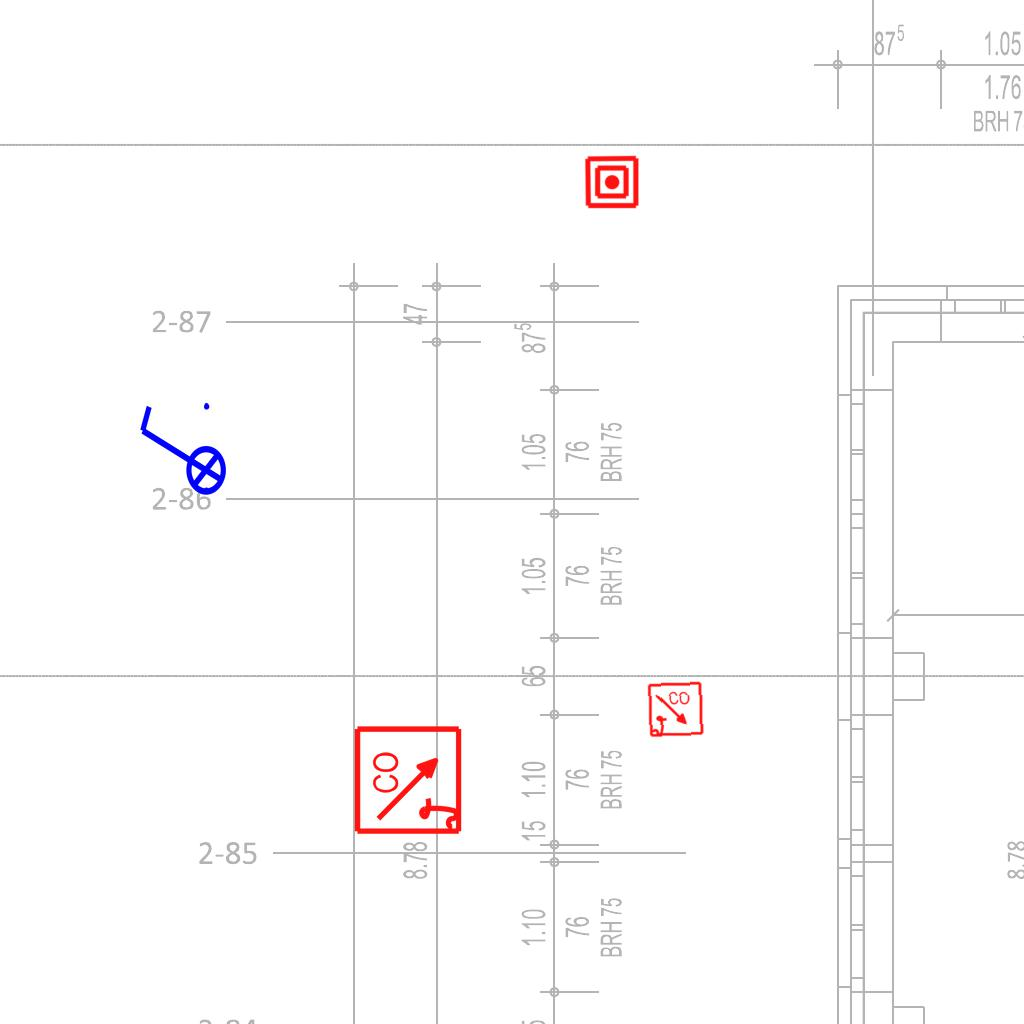Ausschalter_beleuchtet: (132, 397, 228, 509)
NAM-Nichtautomatischer_Melder: (584, 154, 640, 210)
ROA_Rauchmelder_optisch_mit_Signalgeber_(Sockelsirene): (353, 723, 466, 836), (647, 681, 705, 739)
